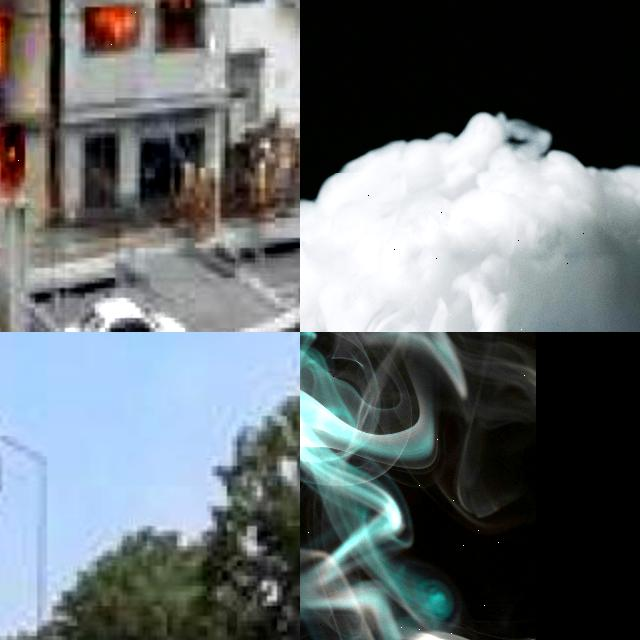fire: (85, 6, 140, 53), (0, 126, 25, 193)
smoke: (300, 332, 537, 640), (300, 174, 640, 332)
